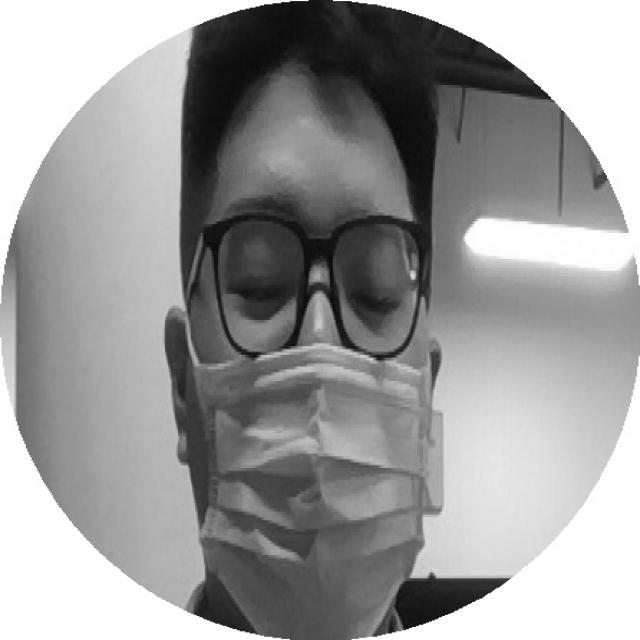fake: (187, 346, 435, 640)
real: (195, 201, 422, 331)
